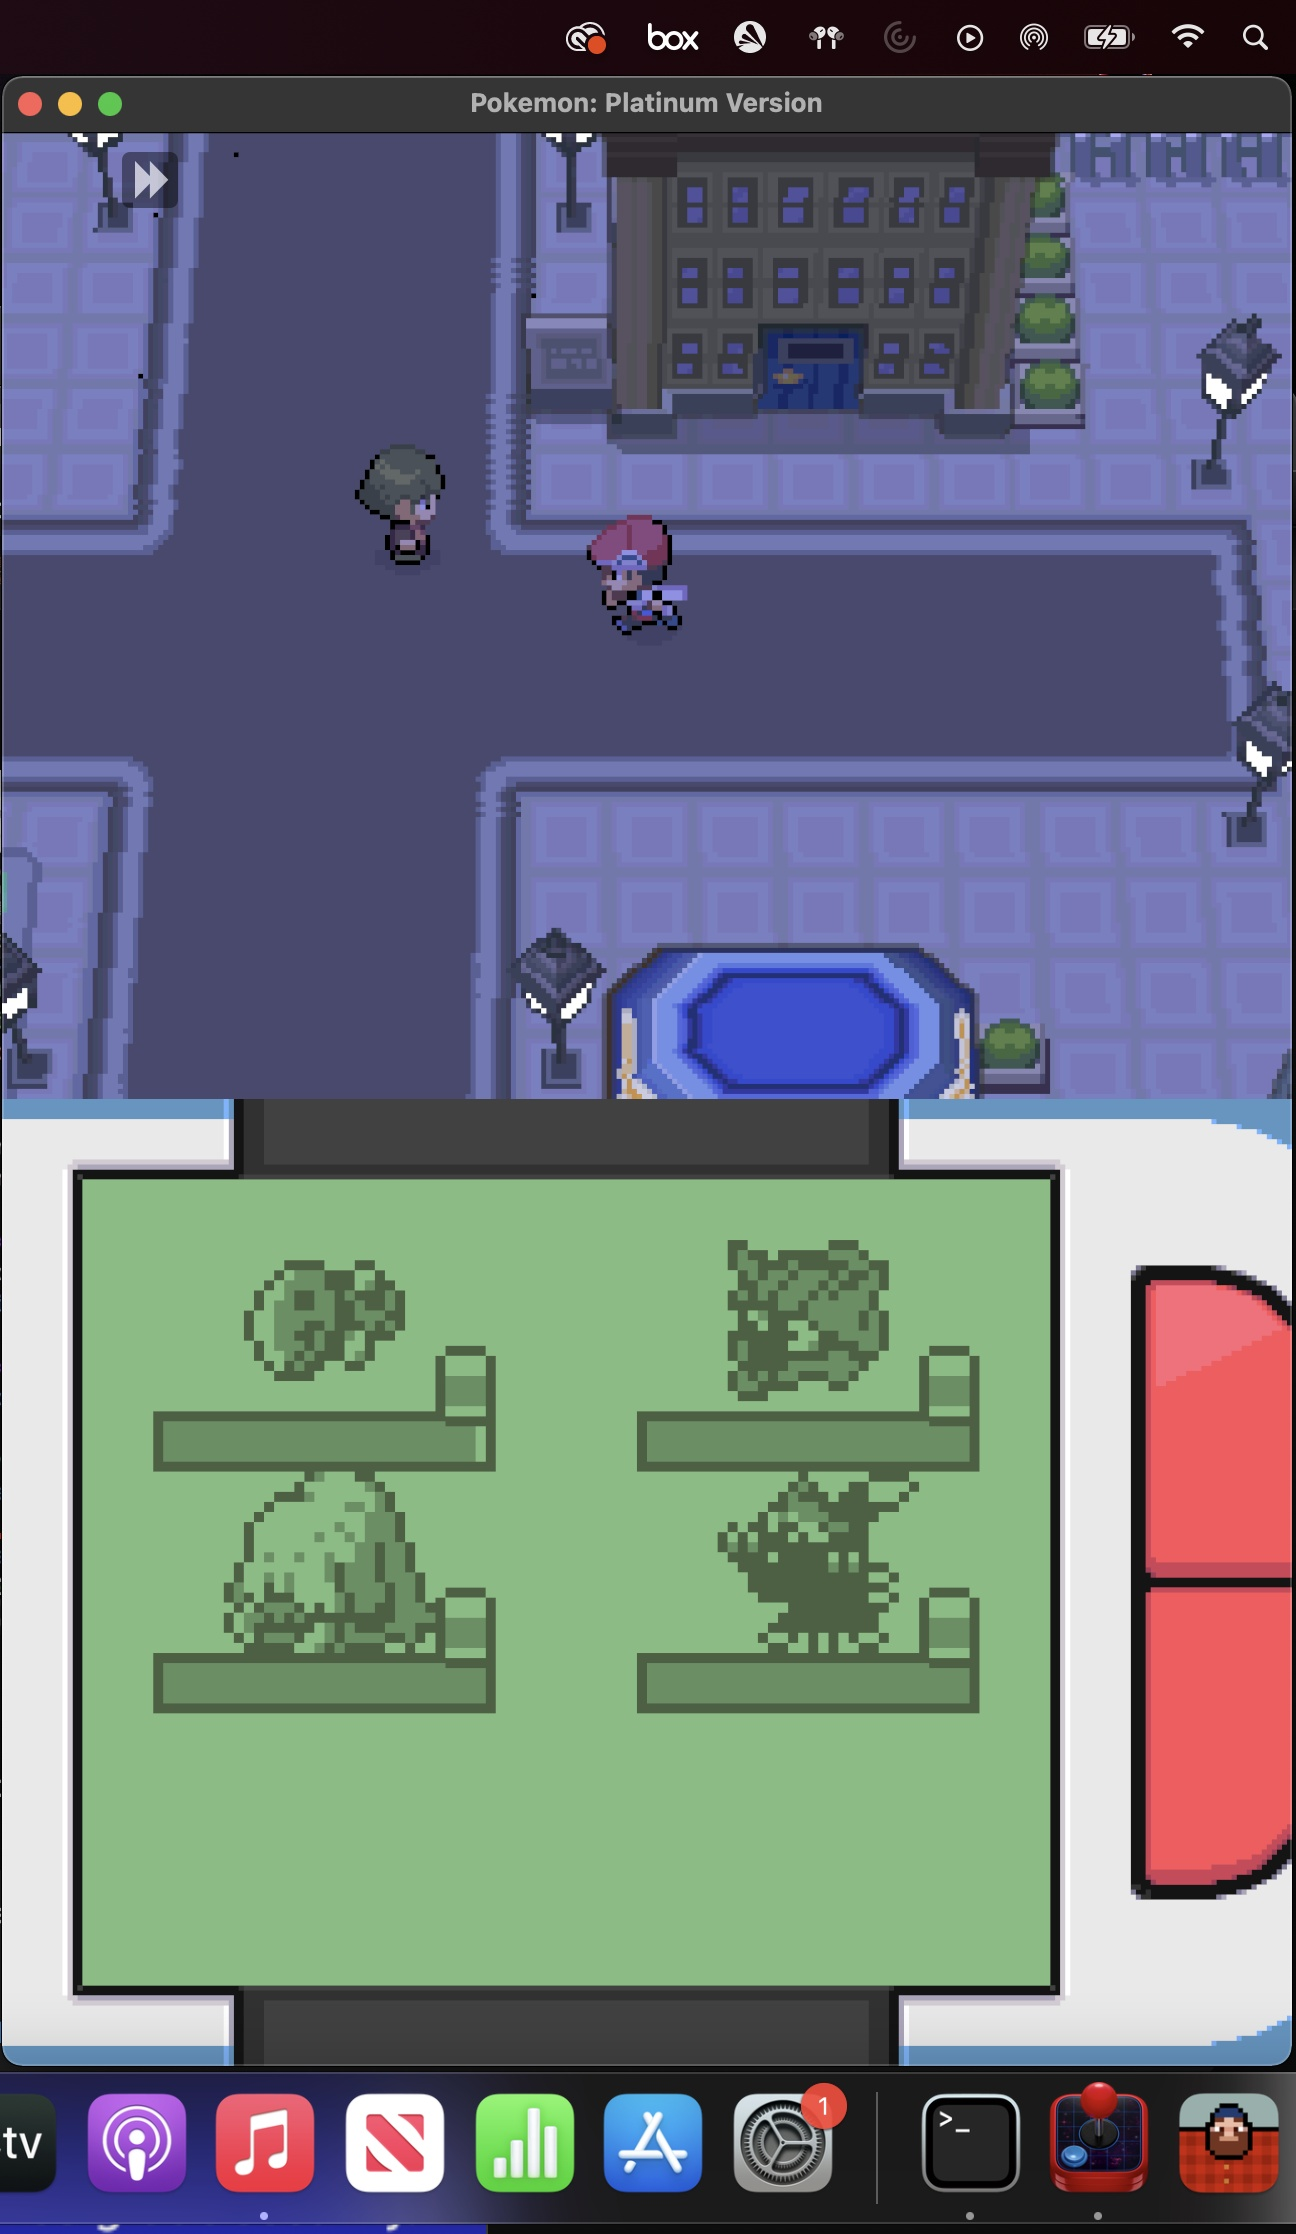player: (571, 504, 698, 638)
